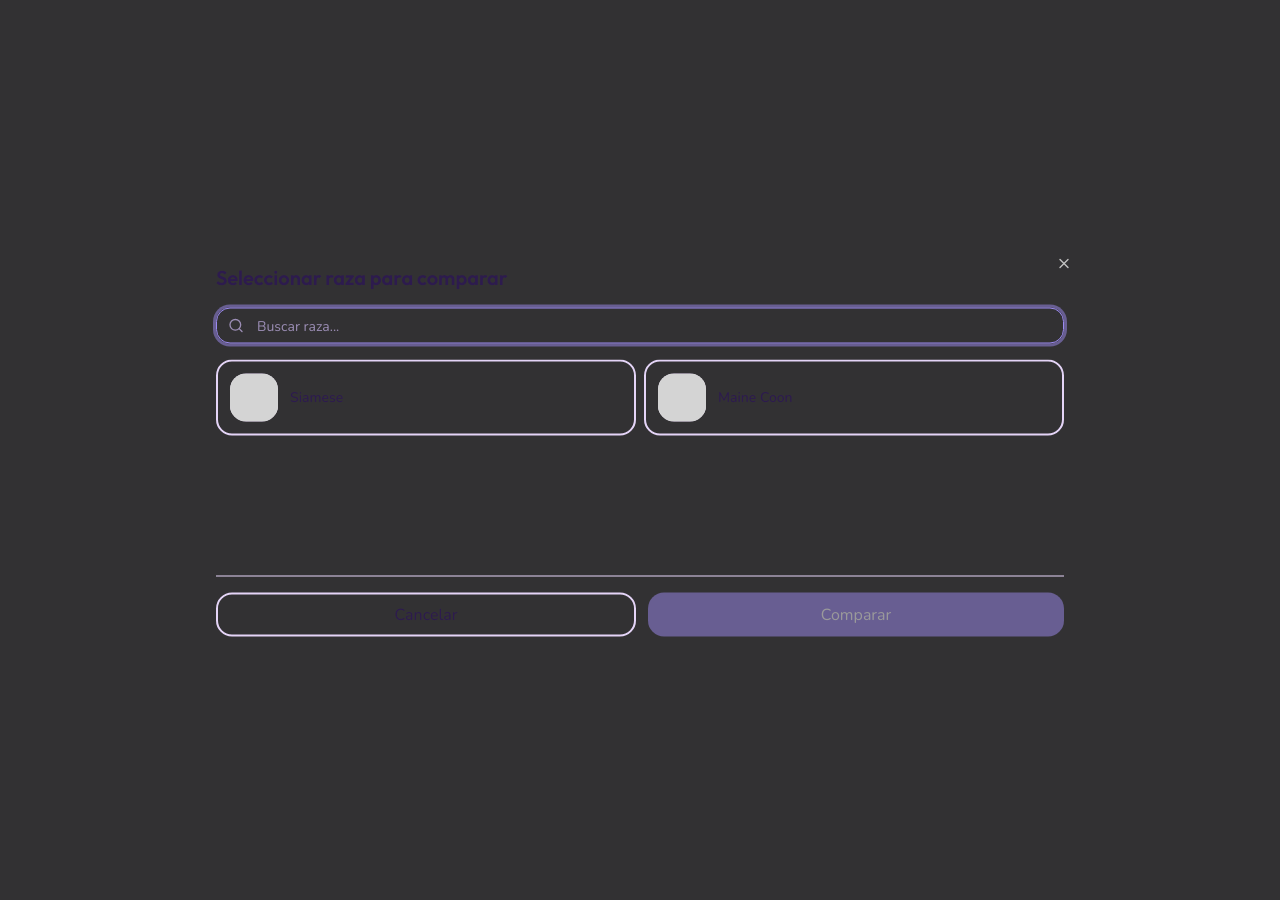
Test case: BreedSelector › should filter breeds based on search query
In the field with placeholder "Buscar raza...": (640, 326) [216, 308, 1064, 344], type "Siam"
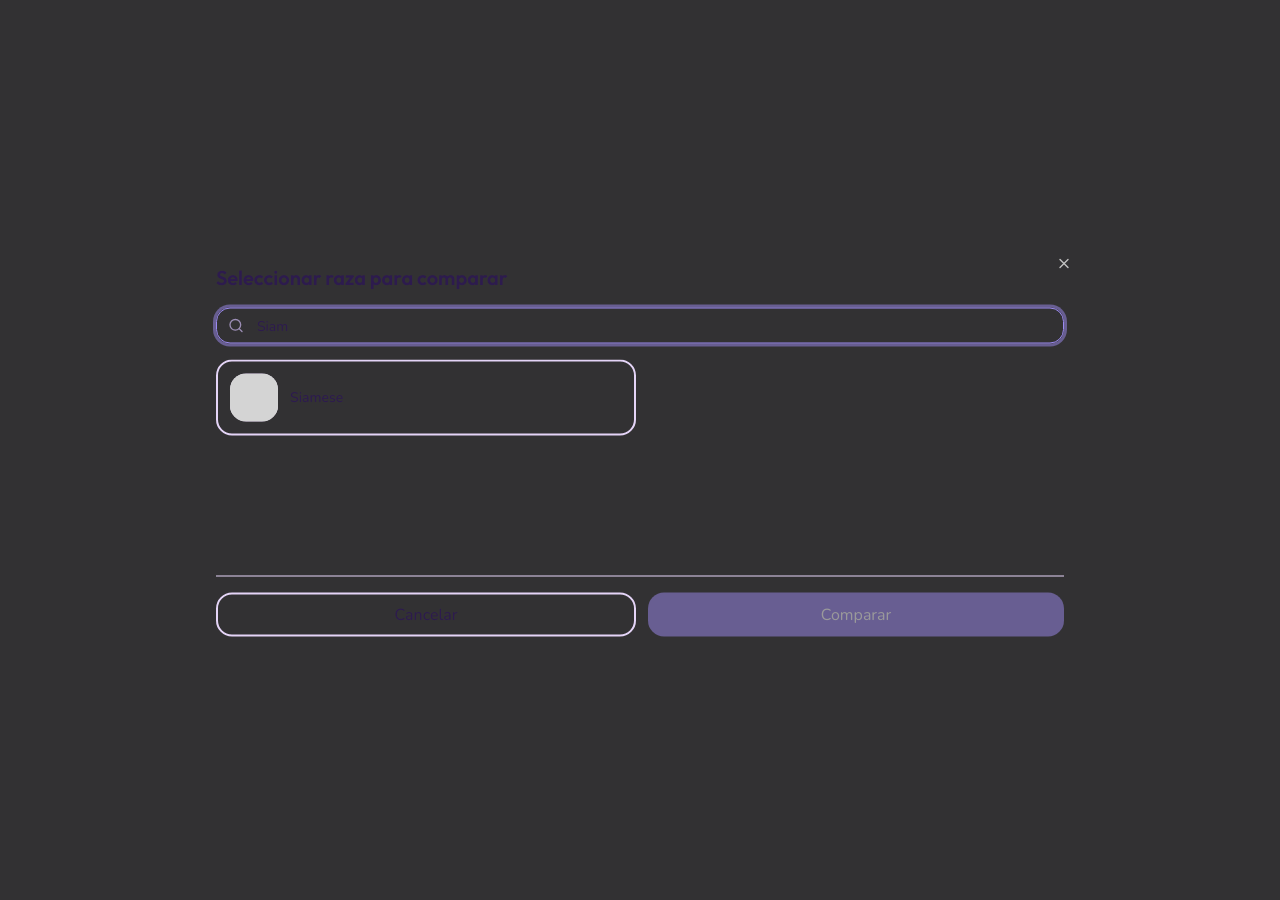
Expected: the text "Siamese" is shown, [290, 388, 343, 408]
Expected: the button "Maine Coon" is gone
